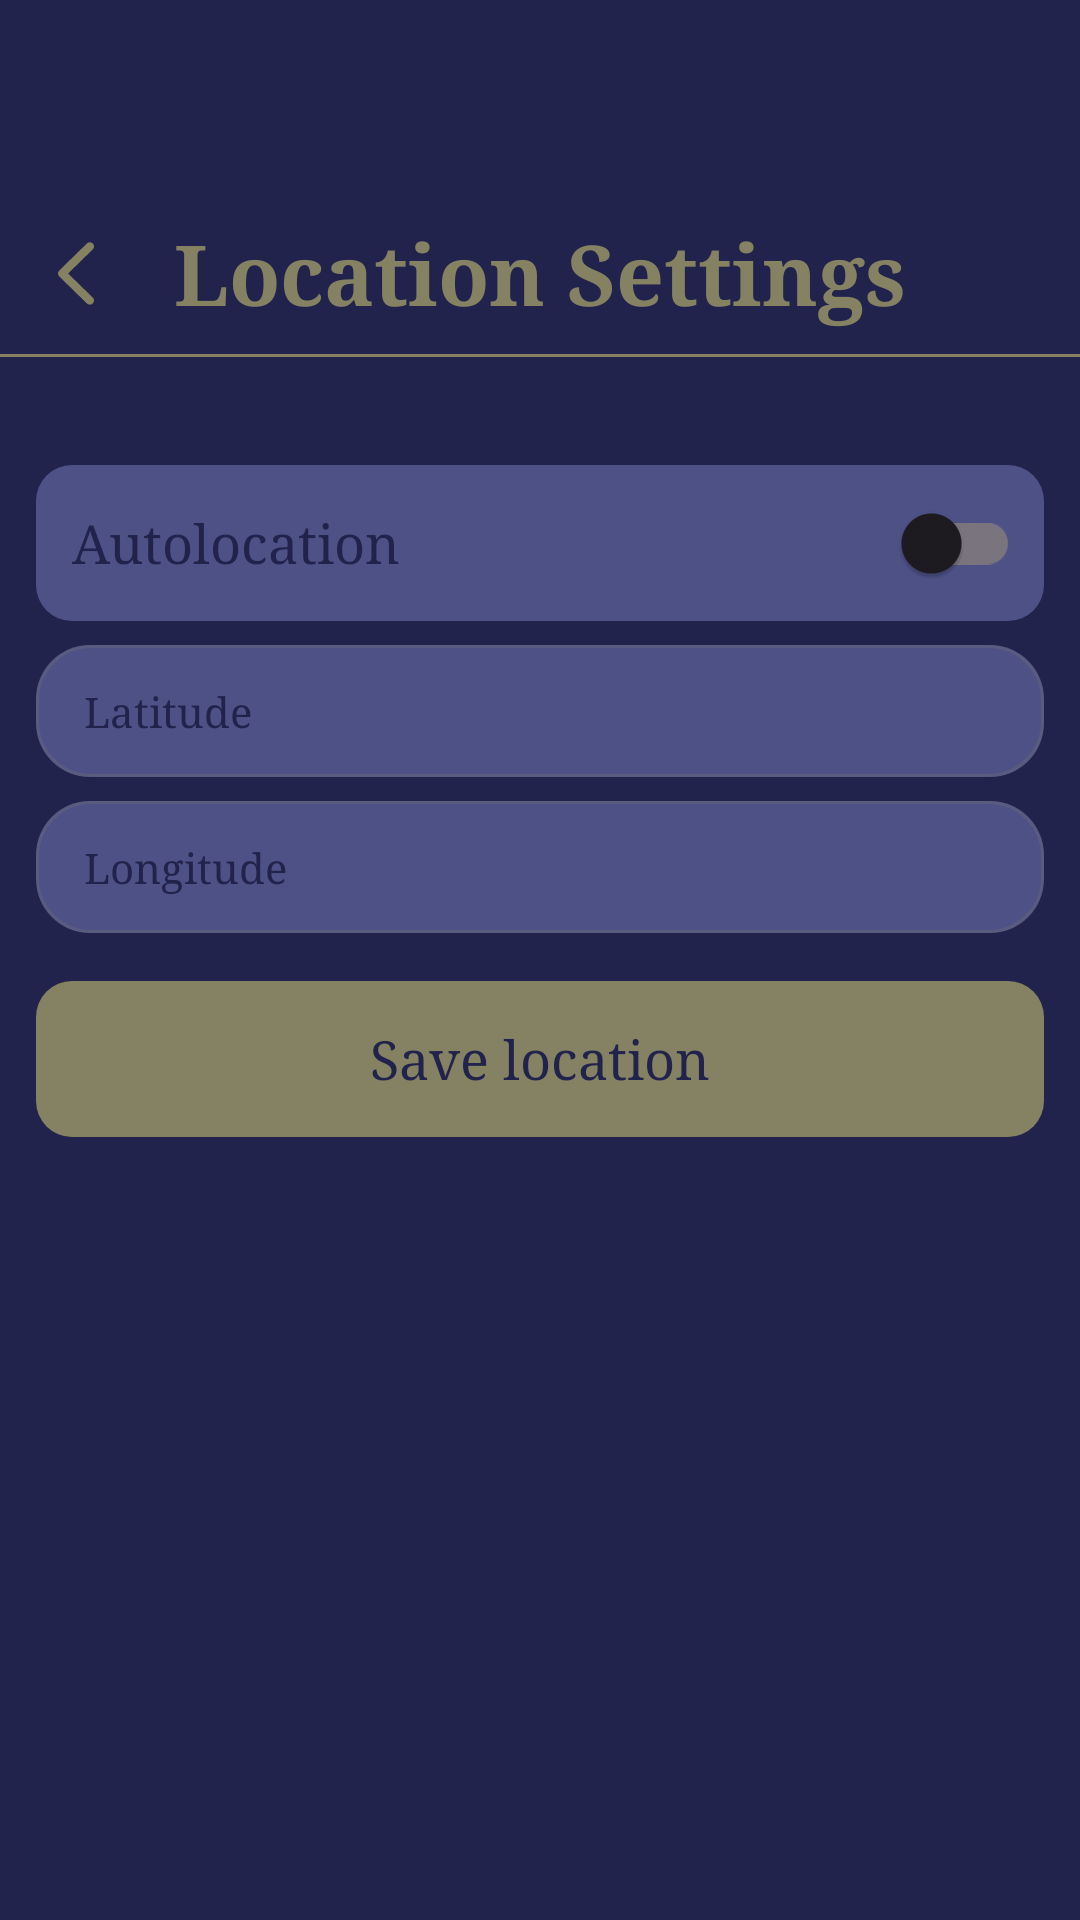

Where icons sit on this 1080*1920 app screen, as bbox=[x1, y1, x2, y2]:
Back: bbox=[58, 242, 94, 305]
